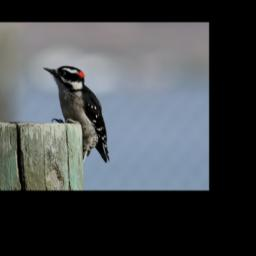Woodpecker: (42, 65, 111, 162)
